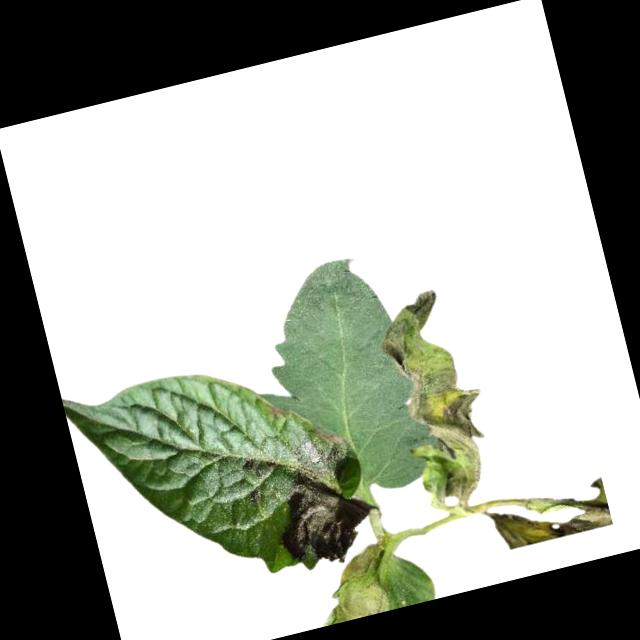Late_blight: (371, 284, 507, 513), (256, 422, 385, 574), (489, 479, 614, 553), (305, 541, 400, 626), (267, 403, 293, 427)
healthy: (251, 248, 444, 510)
